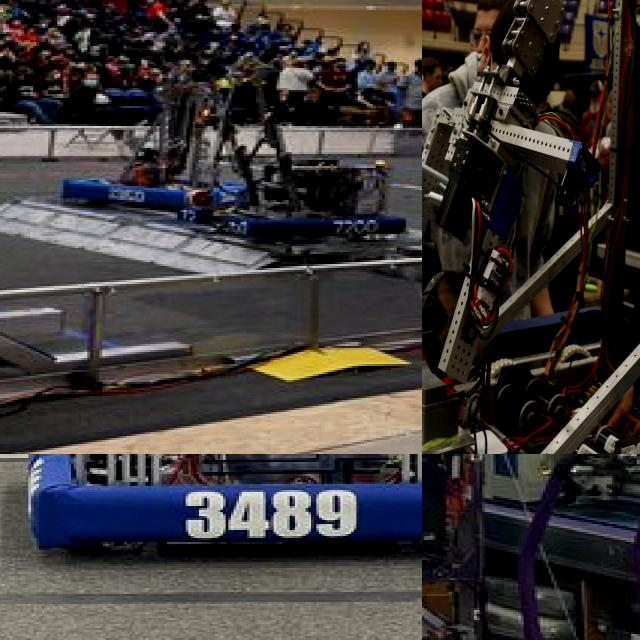FRC-Robots: (422, 0, 640, 454), (13, 454, 422, 607), (422, 454, 583, 640), (242, 90, 422, 251), (103, 58, 225, 216)
